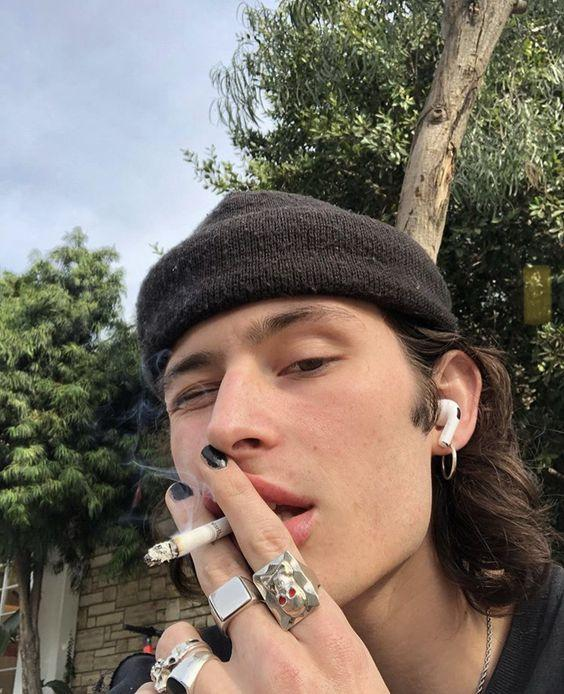cigarette: (144, 516, 232, 568)
